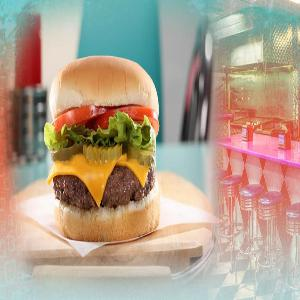cheeseburger_475cal: (46, 49, 162, 247)
